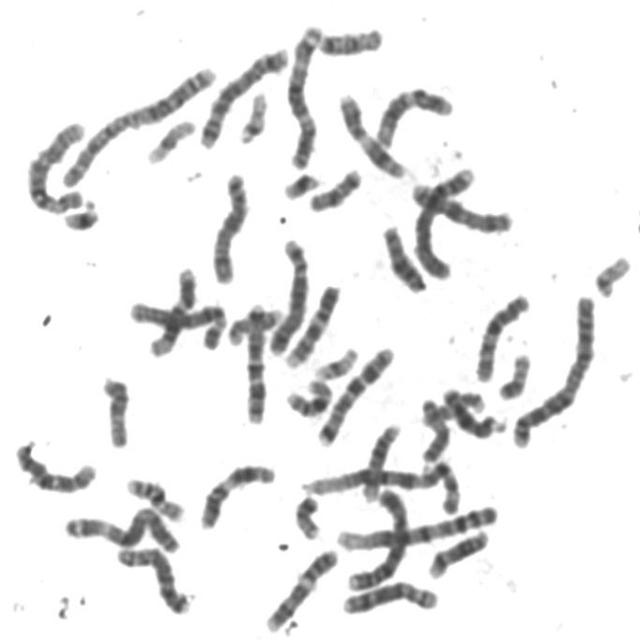A1: (298, 456, 466, 514), (330, 496, 500, 553)
A2: (52, 56, 218, 188), (506, 287, 600, 450)
A3: (57, 499, 184, 555), (280, 16, 324, 170)
B4: (406, 156, 480, 282), (340, 481, 413, 592)
B5: (193, 39, 291, 150), (262, 229, 311, 358)
C10: (468, 286, 533, 384), (8, 433, 100, 496)
C11: (332, 85, 408, 181), (192, 456, 278, 532)
C12: (368, 78, 456, 149), (142, 261, 200, 359)
C6: (21, 113, 88, 215), (122, 292, 229, 352)
C7: (311, 339, 397, 447), (238, 298, 272, 426)
C8: (109, 538, 193, 616), (336, 574, 441, 617)
C9: (259, 542, 340, 634), (280, 277, 342, 370)
D13: (435, 380, 508, 440), (376, 217, 429, 295)
D14: (356, 415, 405, 503), (422, 522, 493, 582)
D15: (95, 368, 132, 451), (414, 390, 452, 466)
E16: (119, 469, 187, 524), (279, 371, 335, 419)
E17: (417, 385, 488, 427), (222, 300, 284, 347)
E18: (302, 160, 364, 214), (312, 19, 386, 58)
F19: (139, 110, 199, 167), (308, 339, 360, 381)
F20: (492, 344, 534, 402), (288, 488, 323, 540)
G21: (58, 193, 102, 233), (276, 164, 322, 202)
G22: (232, 83, 271, 145), (588, 247, 634, 299)
X: (404, 173, 514, 236), (204, 164, 252, 286)
